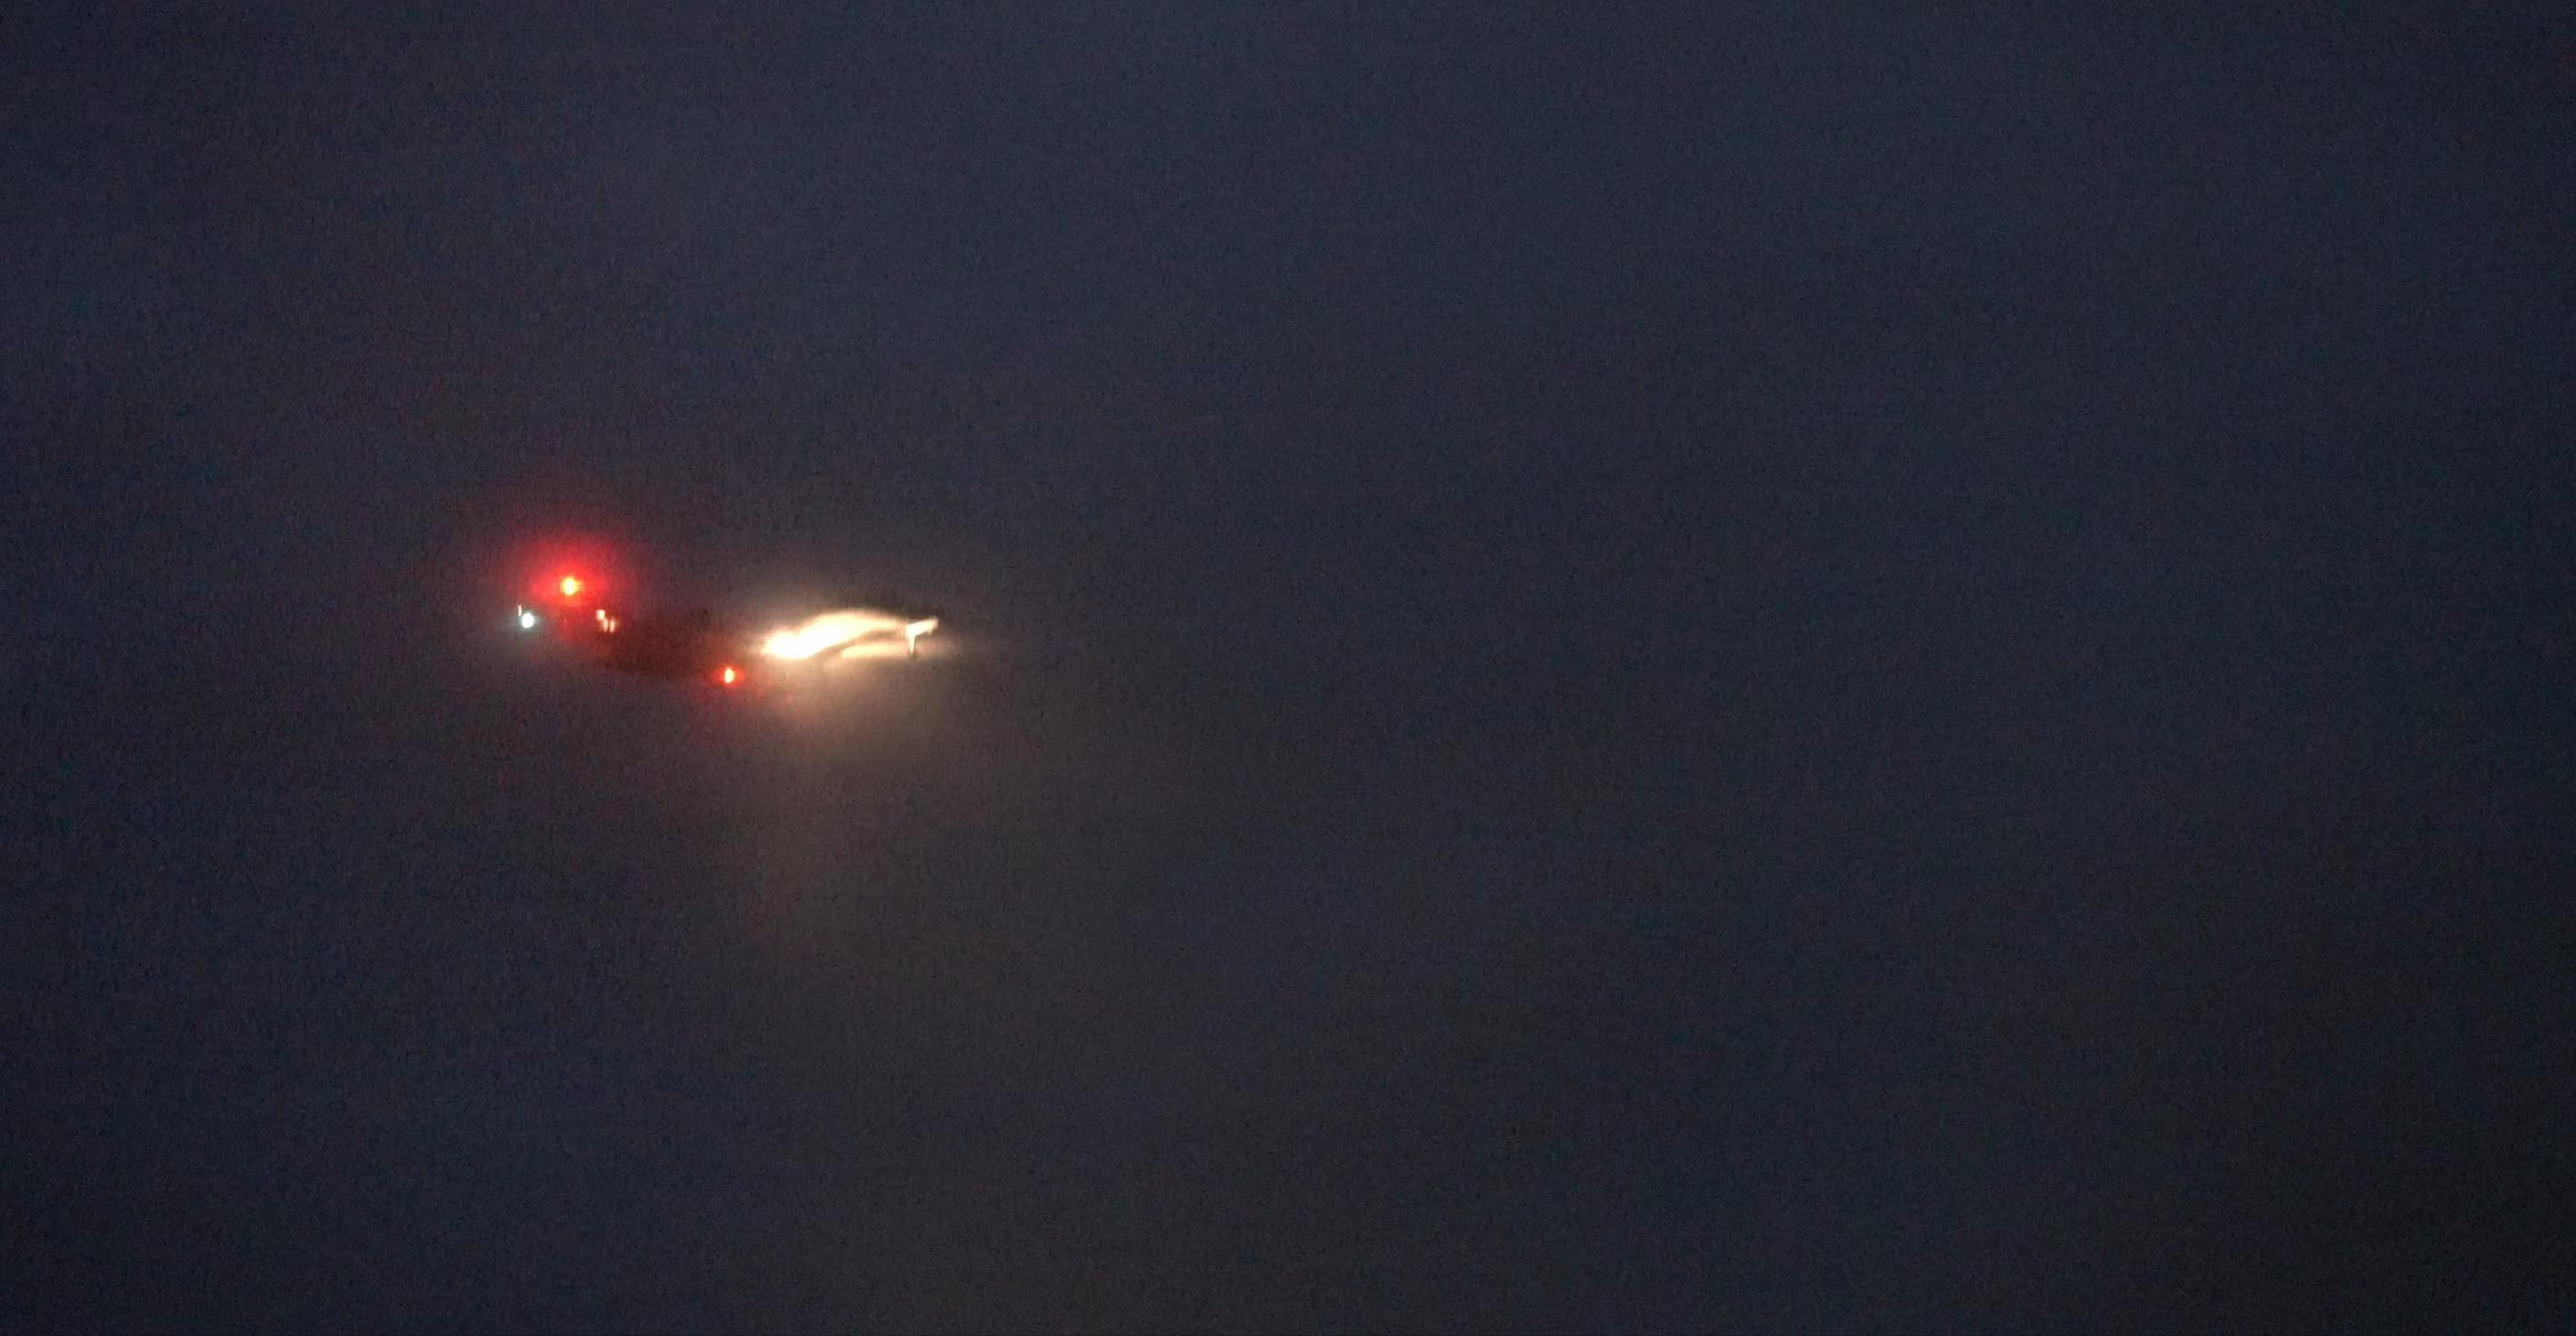Plane: (480, 538, 1007, 724)
